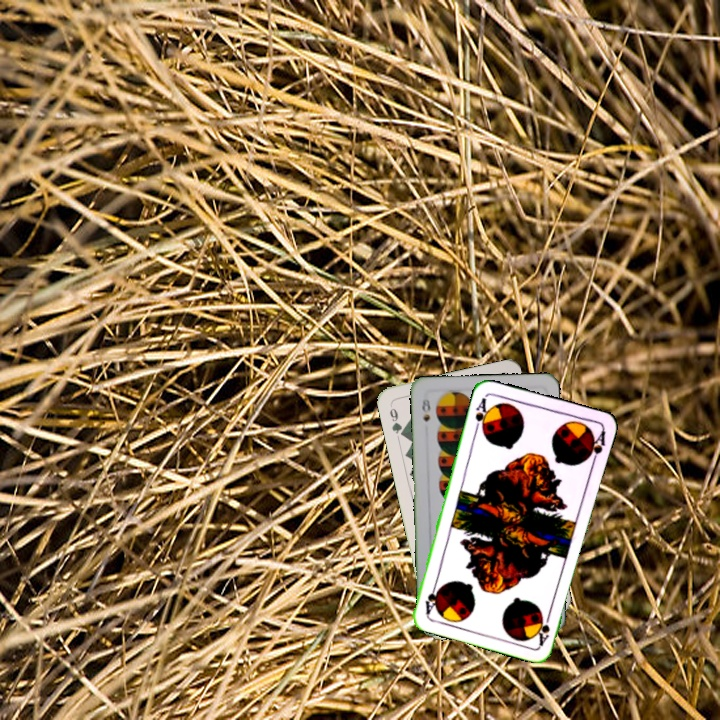G9: (386, 400, 407, 439)
S8: (418, 395, 433, 424)
SA: (471, 393, 492, 435), (532, 608, 553, 648)
